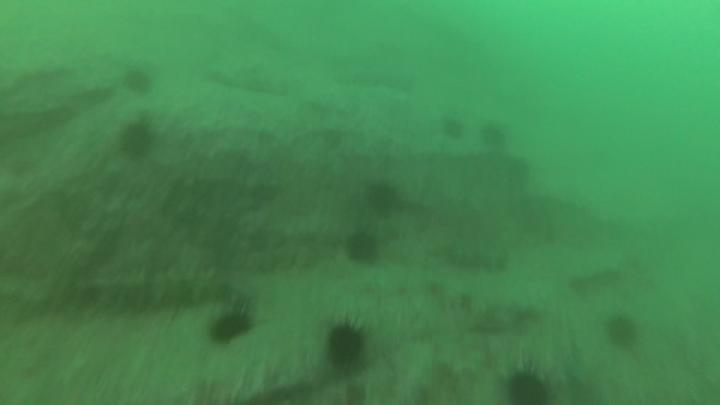echinus: (211, 311, 253, 343), (327, 328, 363, 363), (511, 375, 546, 405), (347, 231, 378, 264), (124, 123, 150, 160), (369, 180, 397, 211), (606, 318, 636, 345), (126, 70, 152, 94), (485, 124, 505, 148)
holothurian: (89, 276, 236, 309)
